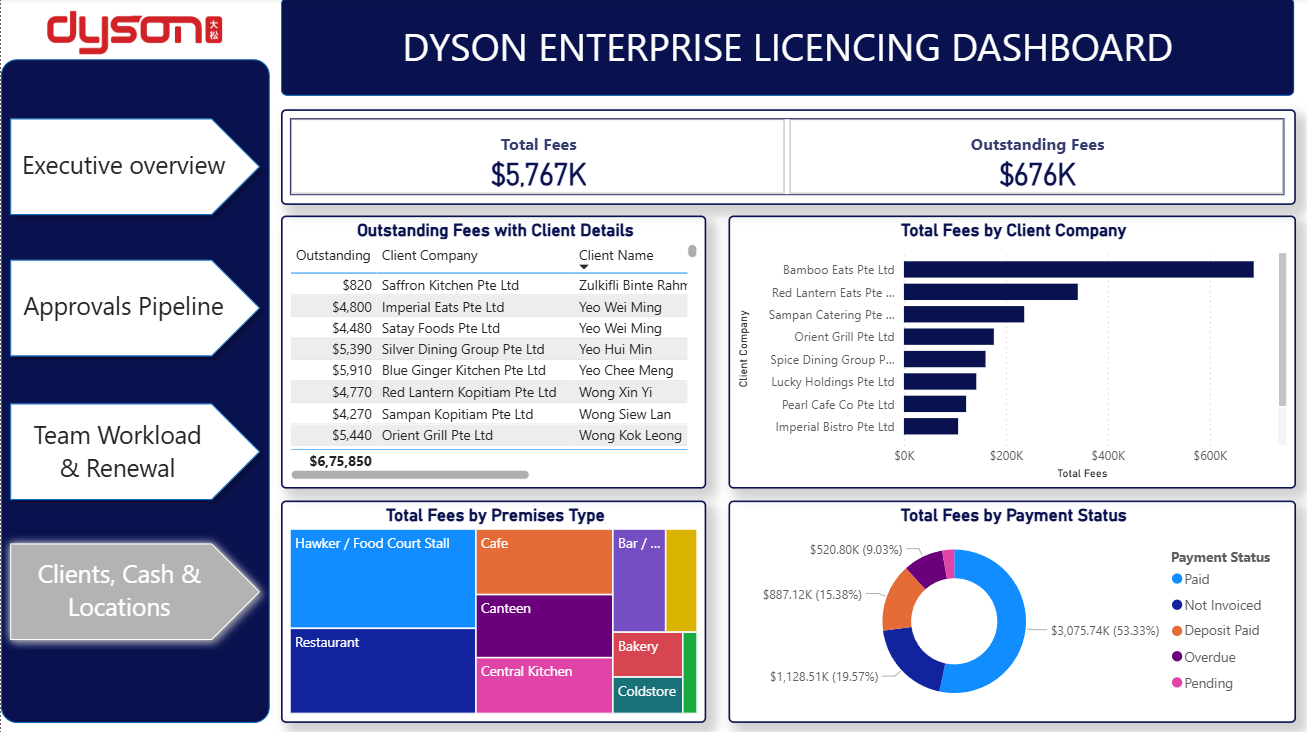

What the dashboard file says about the page in this screenshot:
{"tool":"powerbi","page":{"name":"Page 4","canvas":[1280,720],"ordinal":3},"visuals":[{"type":"donutChart","fields":{"Category":["Main.Payment Status"],"Y":["Main.Total Fees"]},"box":[711.2,491.2,555,217.5],"z":0},{"type":"shape","box":[274.3,0,991.4,95.7],"z":1000},{"type":"textbox","box":[353.8,17.5,832.5,60],"z":2000},{"type":"shape","box":[0,59.9,262.9,649.3],"z":3000},{"type":"shape","box":[0,108.8,262.5,112.5],"z":4000},{"type":"shape","box":[0,247.5,262.5,112.5],"z":5000},{"type":"shape","box":[0,387.5,262.5,112.5],"z":6000},{"type":"shape","box":[0,525,262.5,112.5],"z":7000},{"type":"textbox","box":[18.8,406.2,191.2,75],"z":8000},{"type":"textbox","box":[10,141.2,220,46.2],"z":9000},{"type":"textbox","box":[28.8,541.2,172.5,78.8],"z":10000},{"type":"textbox","box":[12.5,280,215,47.5],"z":11000},{"type":"actionButton","box":[10,396.2,217.5,95],"z":12000},{"type":"actionButton","box":[10,117.5,217.5,95],"z":13000},{"type":"cardVisual","fields":{"Data":["Main.Total Fees","Main.Outstanding"]},"box":[273.8,108.8,992.5,93.8],"z":14000},{"type":"clusteredBarChart","fields":{"Category":["Main.Client Company"],"Y":["Main.Total Fees"]},"box":[711.2,212.5,555,267.5],"z":15000},{"type":"tableEx","title":"Outstanding Fees with Client Details","fields":{"Values":["Main.Outstanding","Main.Client Company","Main.Client Name","Main.Client Email"]},"box":[273.8,212.5,416.2,267.5],"z":16000},{"type":"treemap","fields":{"Group":["Main.Premises Type"],"Values":["Main.Total Fees"]},"box":[273.8,491.2,416.2,217.5],"z":17000},{"type":"image","box":[40,0,181.2,60],"z":18000}]}

Visuals, with their boxes in screenshot pixels (x1, y1, x2, y2), scaled from the page's 1280x720 canvas onto the 1307x732 screenshot:
donutChart - Main.Payment Status x Main.Total Fees: region(726, 499, 1293, 721)
shape: region(280, 0, 1292, 97)
textbox: region(361, 18, 1211, 79)
shape: region(0, 61, 268, 721)
shape: region(0, 111, 268, 225)
shape: region(0, 252, 268, 366)
shape: region(0, 394, 268, 508)
shape: region(0, 534, 268, 648)
textbox: region(19, 413, 214, 489)
textbox: region(10, 144, 235, 191)
textbox: region(29, 550, 206, 630)
textbox: region(13, 285, 232, 333)
actionButton: region(10, 403, 232, 499)
actionButton: region(10, 119, 232, 216)
cardVisual - Main.Total Fees x Main.Outstanding: region(280, 111, 1293, 206)
clusteredBarChart - Main.Client Company x Main.Total Fees: region(726, 216, 1293, 488)
"Outstanding Fees with Client Details" tableEx: region(280, 216, 705, 488)
treemap - Main.Premises Type x Main.Total Fees: region(280, 499, 705, 721)
image: region(41, 0, 226, 61)
